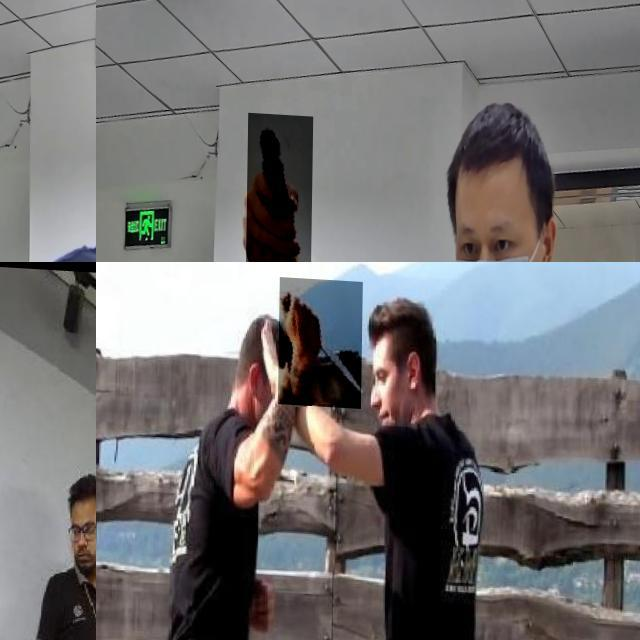-: (278, 274, 364, 406)
gun-knife-thesis - v11 Yolov5 augmented: (247, 110, 313, 262)
